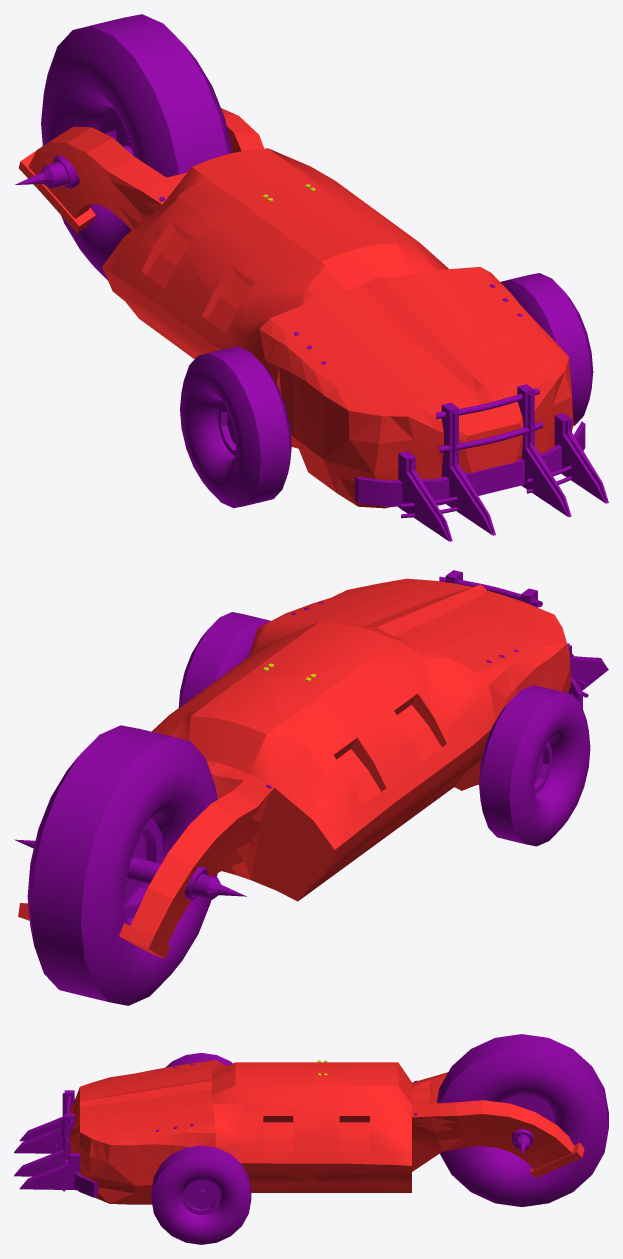
File: FractureCar.FBX
3 views of the same model, one above another, from view 1: azimuth 30°, elevation 25°; view 2: azimuth 150°, elevation 25°; view 3: azimuth 270°, elevation 25° (orthographic). The views are drawn at different scales.
Parts seen in each view (by area): view 1: Torus019, Box039_Part_7, Torus017, Box039_Part_2, Box039_Part_25, Box039_Part_17, Box039_Part_12, Box039_Part_19, Box039_Part_18, Box039_Part_4, Torus018, Box039_Part_9 (+16 smaller); view 2: Torus019, Box039_Part_17, Torus017, Box039_Part_24, Box039_Part_7, Box039_Part_2, Box039_Part_15, Box039_Part_12, Box039_Part_4, Box039_Part_11, Box039_Part_9, Box039_Part_18 (+15 smaller); view 3: Torus019, Box039_Part_5, Box039_Part_15, Torus018, Box039_Part_10, Box039_Part_8, Box039_Part_12, Box039_Part_3, Box039_Part_2, Box039_Part_25, Box039_Part_6, Box039_Part_17 (+13 smaller).
Boxes of the visible parts, x1,y1,x2,y2 form: Torus019: [41, 14, 231, 280]; Box039_Part_7: [272, 316, 406, 485]; Torus017: [180, 346, 291, 508]; Box039_Part_2: [300, 265, 497, 355]; Box039_Part_25: [430, 347, 573, 472]; Box039_Part_17: [18, 126, 206, 234]; Box039_Part_12: [286, 188, 439, 278]; Box039_Part_19: [327, 373, 448, 508]; Box039_Part_18: [186, 201, 286, 319]; Box039_Part_4: [156, 176, 297, 269]; Torus018: [500, 273, 593, 425]; Box039_Part_9: [151, 251, 223, 357]; Torus019: [27, 725, 217, 1005]; Box039_Part_17: [18, 724, 323, 955]; Torus017: [479, 685, 590, 846]; Box039_Part_24: [415, 656, 512, 808]; Box039_Part_7: [464, 615, 569, 697]; Box039_Part_2: [314, 594, 475, 659]; Box039_Part_15: [172, 678, 279, 773]; Box039_Part_12: [213, 620, 395, 684]; Box039_Part_4: [269, 677, 363, 781]; Box039_Part_11: [297, 771, 386, 871]; Box039_Part_9: [358, 743, 439, 855]; Box039_Part_18: [298, 669, 424, 757]; Torus019: [437, 1034, 608, 1206]; Box039_Part_5: [191, 1104, 324, 1178]; Box039_Part_15: [330, 1062, 564, 1154]; Torus018: [151, 1145, 251, 1244]; Box039_Part_10: [89, 1114, 198, 1204]; Box039_Part_8: [312, 1133, 411, 1192]; Box039_Part_12: [203, 1062, 331, 1110]; Box039_Part_3: [323, 1079, 414, 1139]; Box039_Part_2: [117, 1064, 231, 1116]; Box039_Part_25: [69, 1091, 121, 1178]; Box039_Part_6: [383, 1122, 477, 1171]; Box039_Part_17: [381, 1062, 584, 1176].
Size of the model in its own units: 57.95 by 39.83 by 136.
